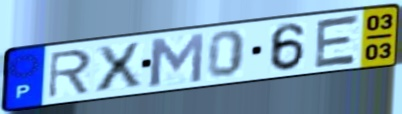0: (206, 28, 248, 81)
6: (268, 21, 310, 74)
E: (311, 12, 363, 71)
M: (147, 31, 207, 89)
R: (46, 47, 95, 101)
X: (93, 40, 145, 94)
